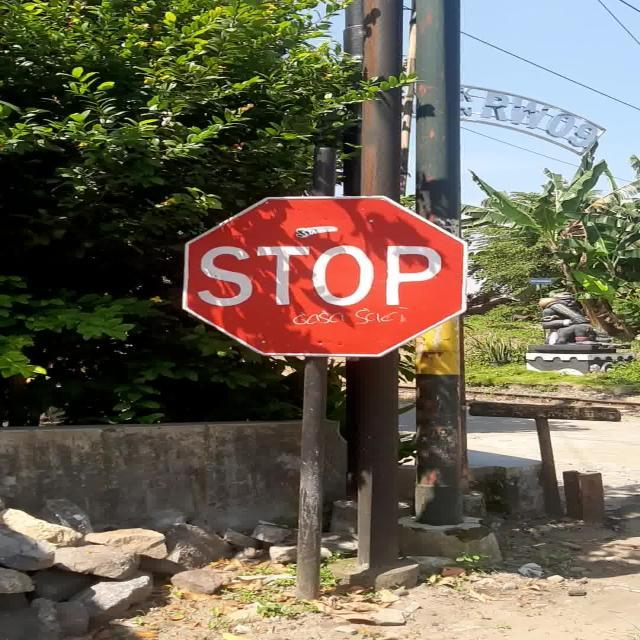Berhenti: (182, 196, 468, 358)
